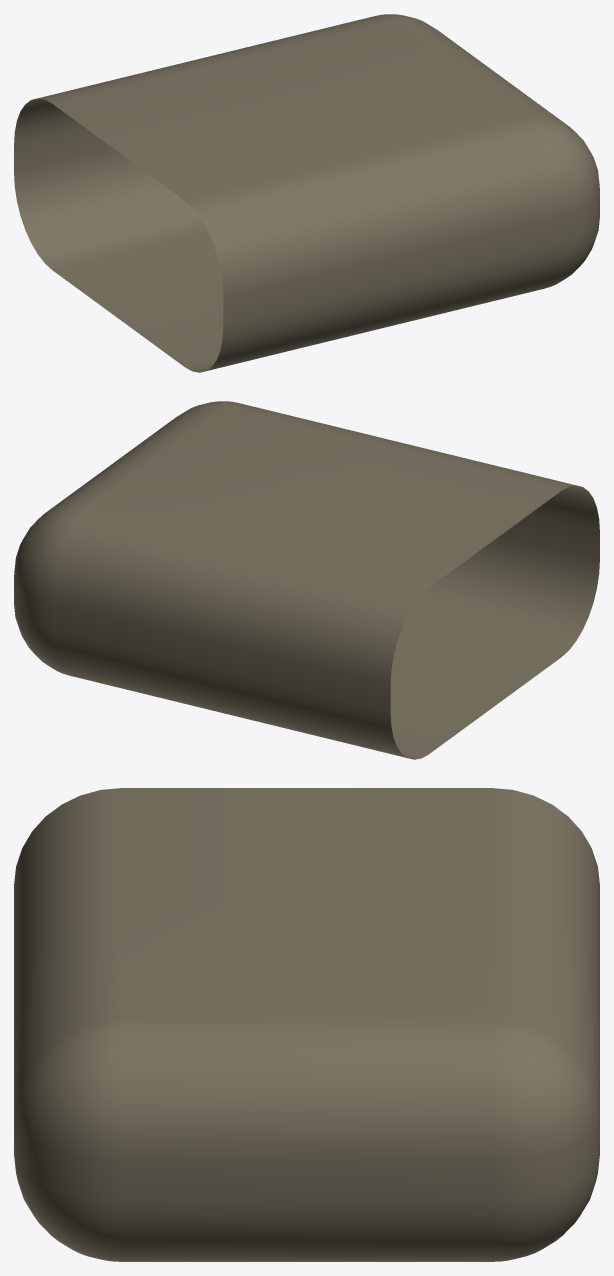
File: SM_wall_int_combo_01.fbx
3 views of the same model, one above another, from view 1: azimuth 30°, elevation 25°; view 2: azimuth 150°, elevation 25°; view 3: azimuth 270°, elevation 25° (orthographic). The views are drawn at different scales.
Parts seen in each view (by area): view 1: wall_int_combo01; view 2: wall_int_combo01; view 3: wall_int_combo01.
Boxes of the visible parts, <box> form: wall_int_combo01: <box>14,14,599,372</box>; wall_int_combo01: <box>14,401,599,759</box>; wall_int_combo01: <box>14,788,599,1261</box>.
Size of the model in its own units: 700 by 275 by 627.
